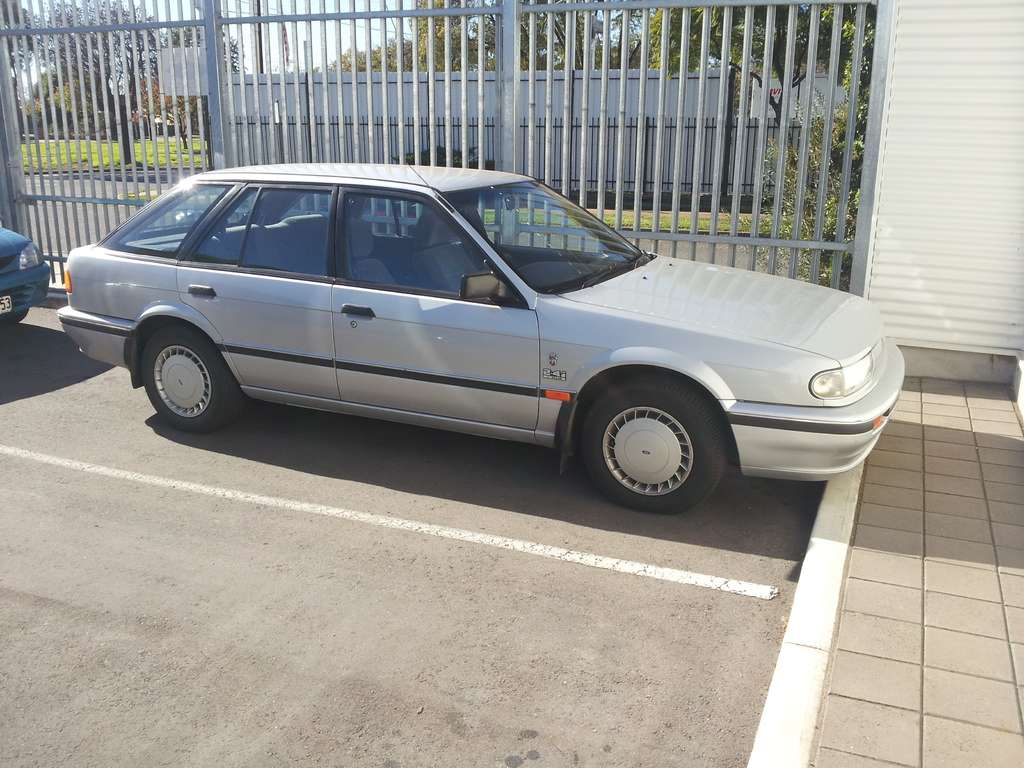mobil: (56, 160, 926, 535)
